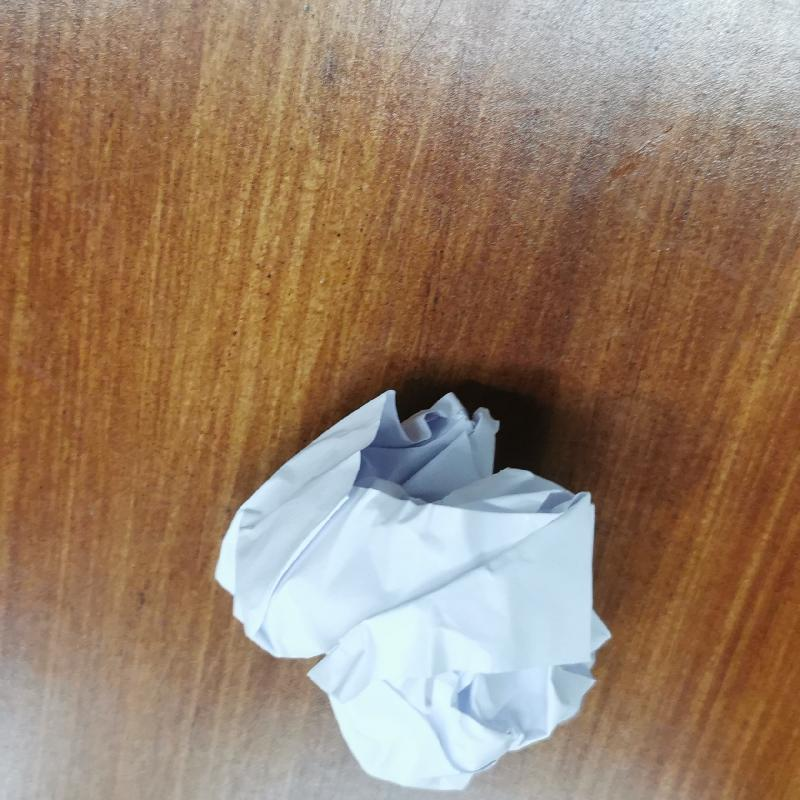spitball: (192, 377, 619, 800)
